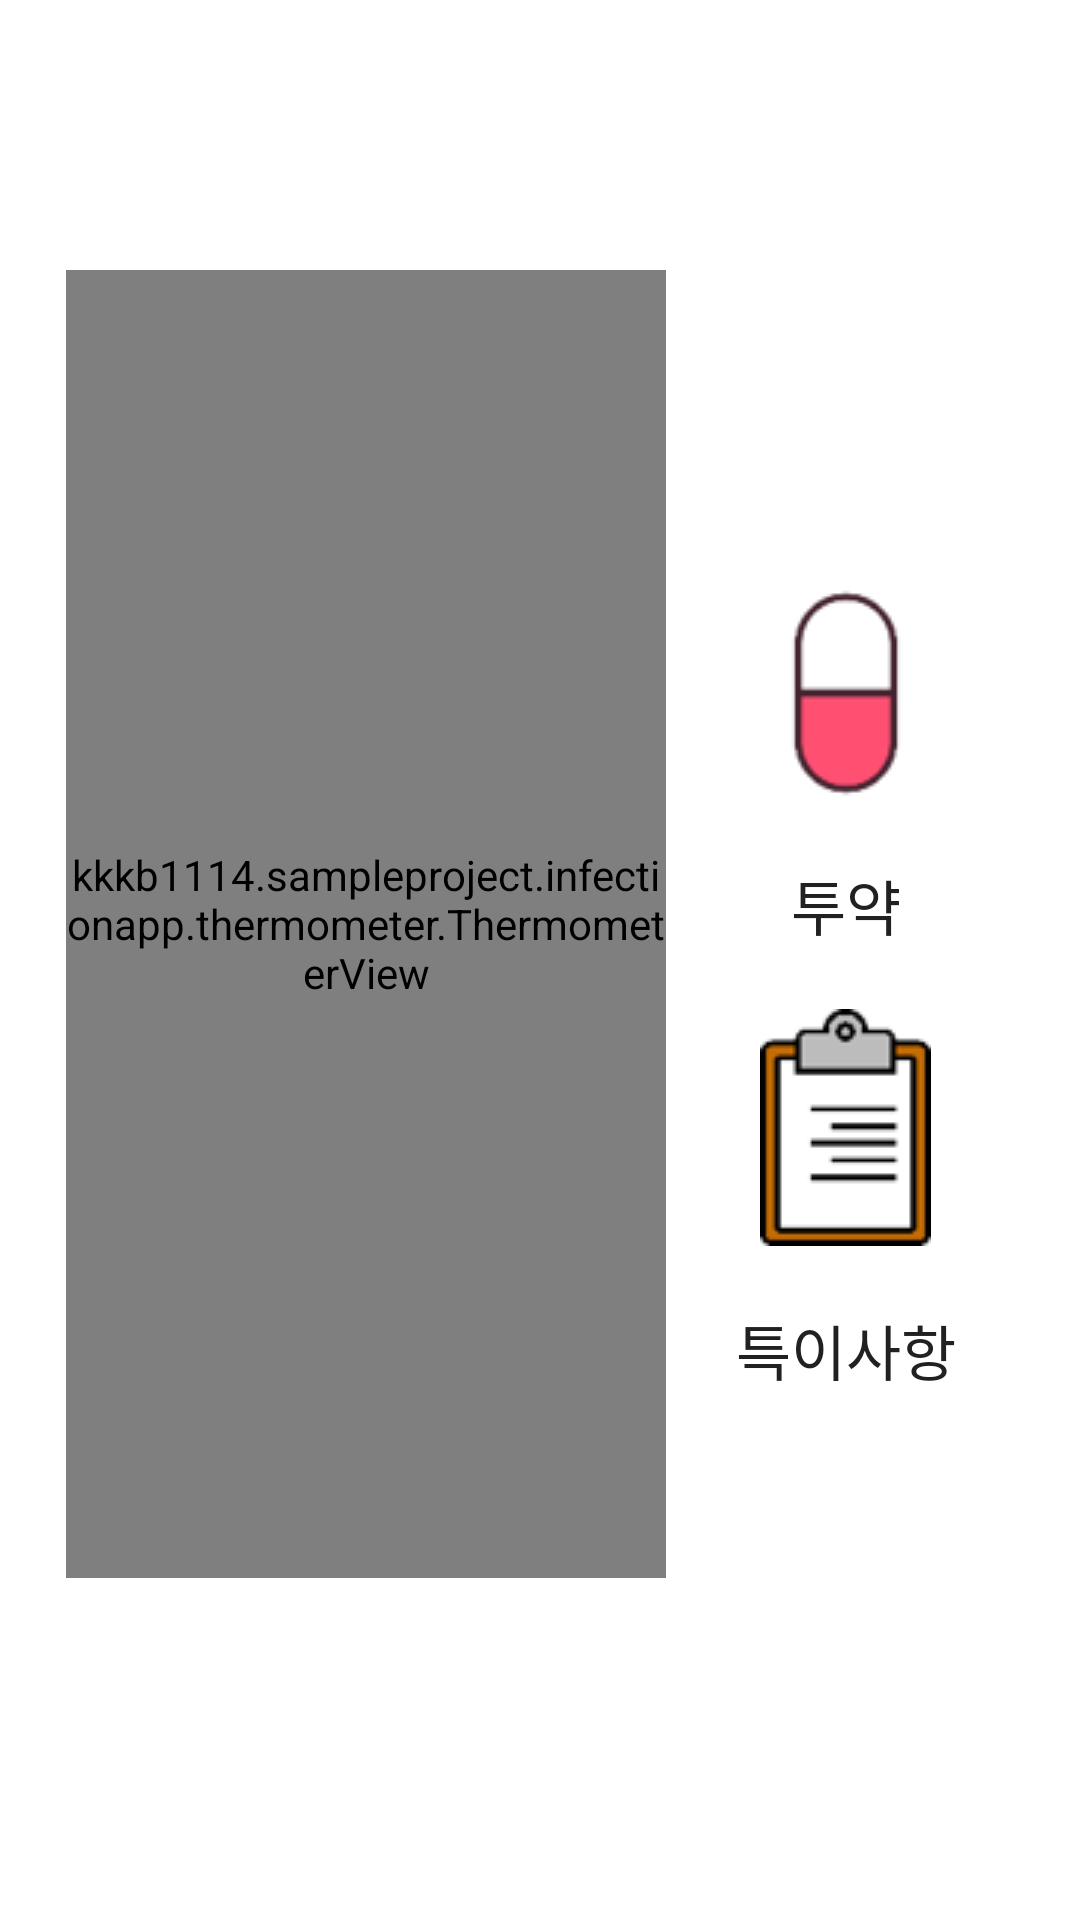

Point at icon controls on the screen. Image size 1080*1920, points as [x,y].
pill: [846,693]
